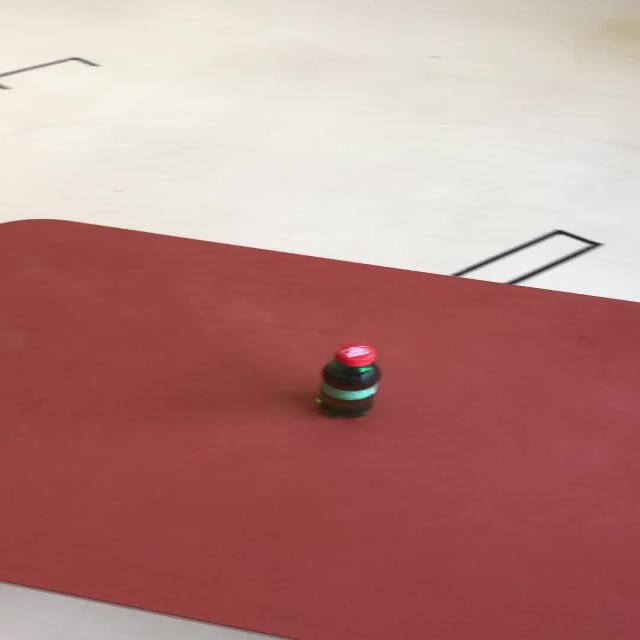guarana: (312, 343, 380, 417)
